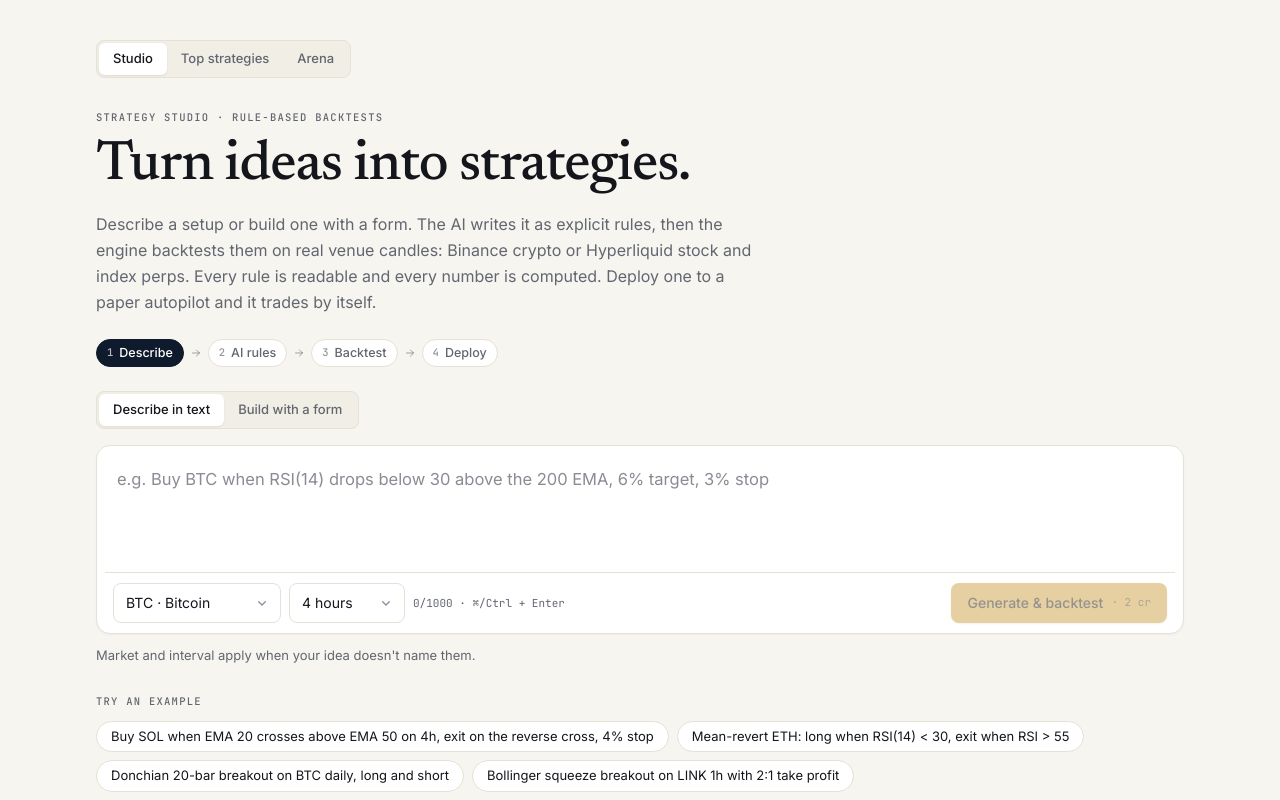
Test case: StrategiesPage · studio › shows a generate error and re-reads credits
The width and height of the screenshot is (1280, 800).
Type "Something clever here" into the text box named "Describe your strategy" at (640, 510), box [105,454,1175,566]
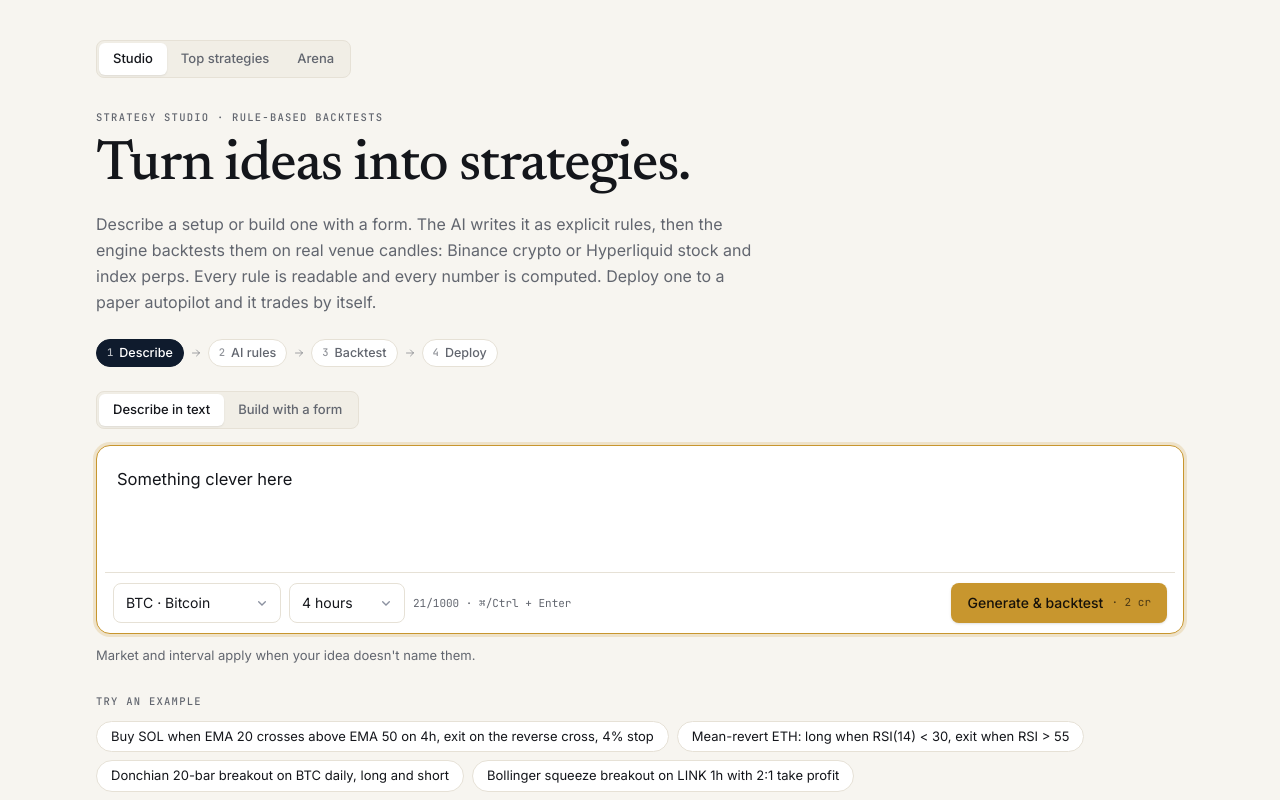
Type keys "{Meta>}{Enter}{/Meta}"
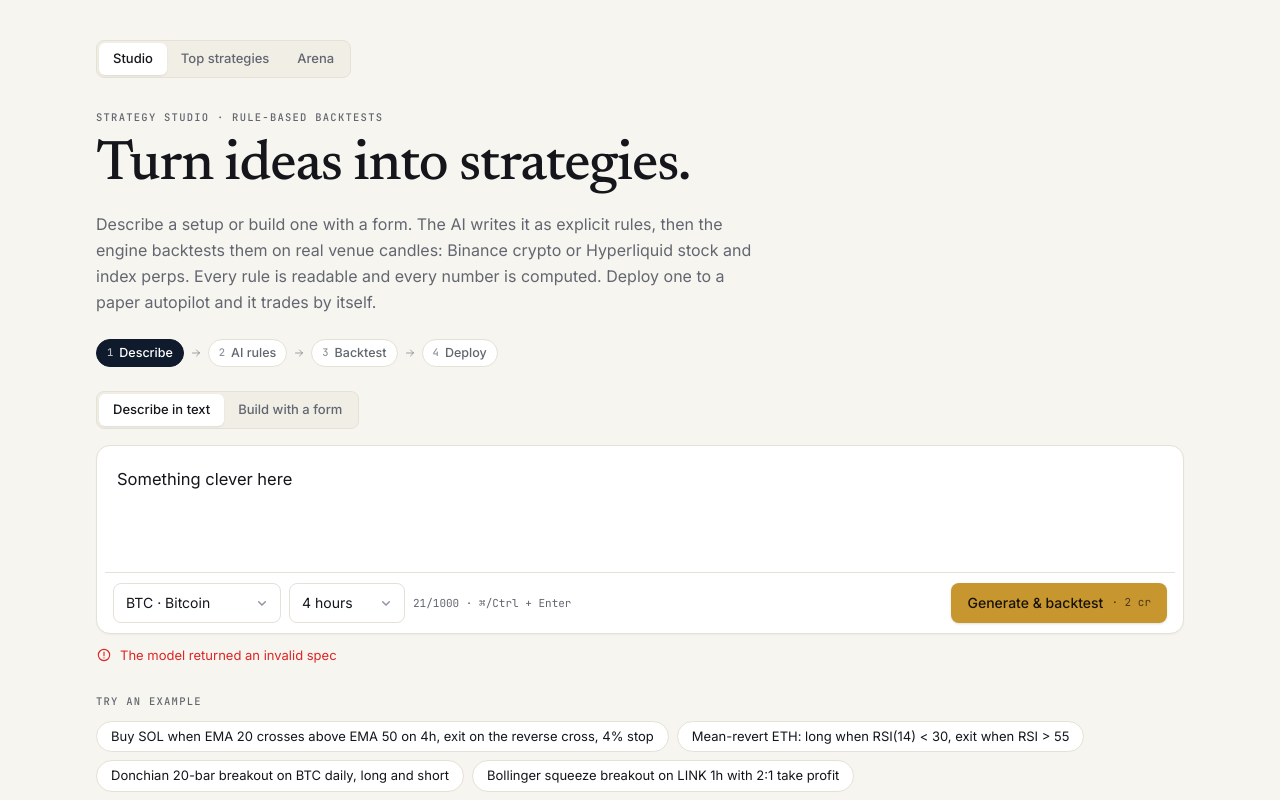
Result: the message reads "The model returned an invalid spec" at [120,647,337,663]
